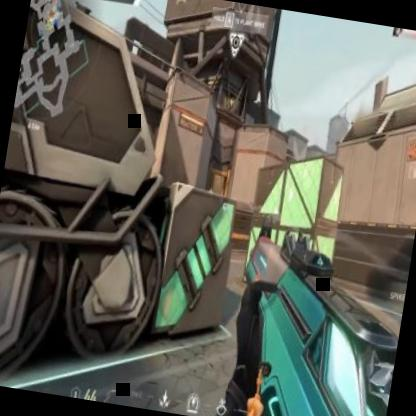enemy: (206, 186, 213, 202)
enemy_head: (209, 186, 212, 192)
